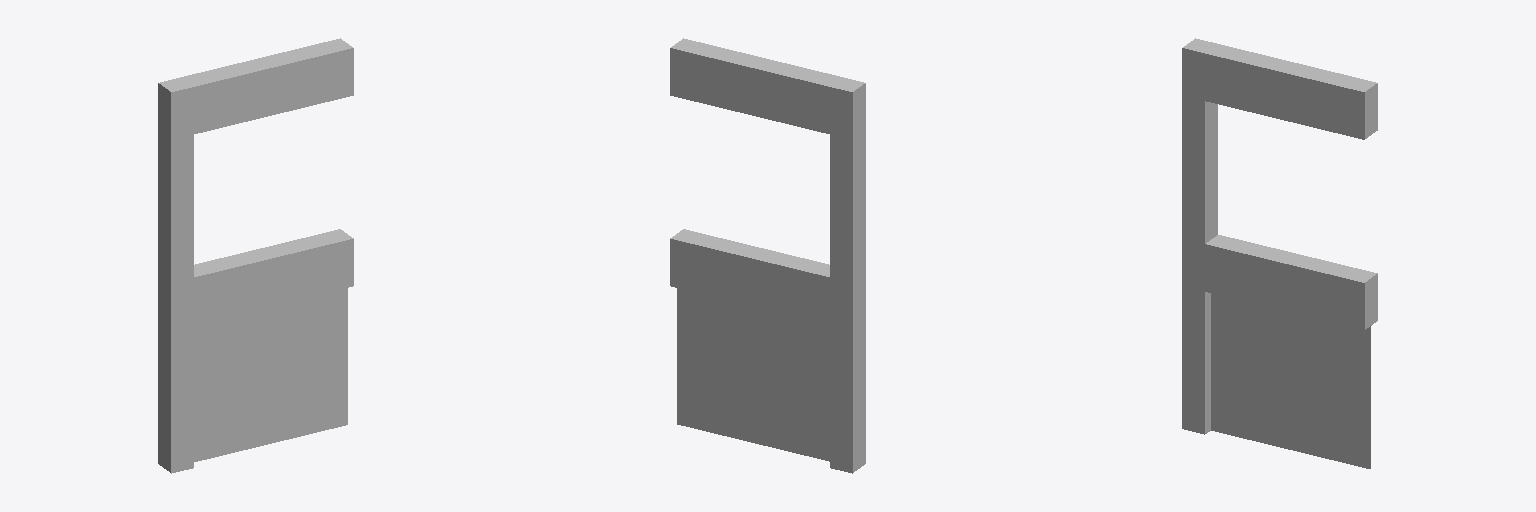
The model's file is left_end.obj.
3 views of the same model, side by side, from view 1: azimuth 30°, elevation 25°; view 2: azimuth 150°, elevation 25°; view 3: azimuth 330°, elevation 25° (orthographic).
Visible parts, largest first — view 1: left_end; view 2: left_end; view 3: left_end.
Part boxes in pixels (x1,y1,x2,y2): left_end: (158, 38, 353, 473); left_end: (670, 38, 865, 473); left_end: (1182, 38, 1377, 468).
Size of the model in its own units: 0.5 by 1 by 0.0625.